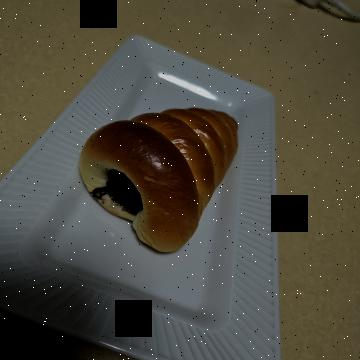cream horn: (95, 118, 274, 304)
